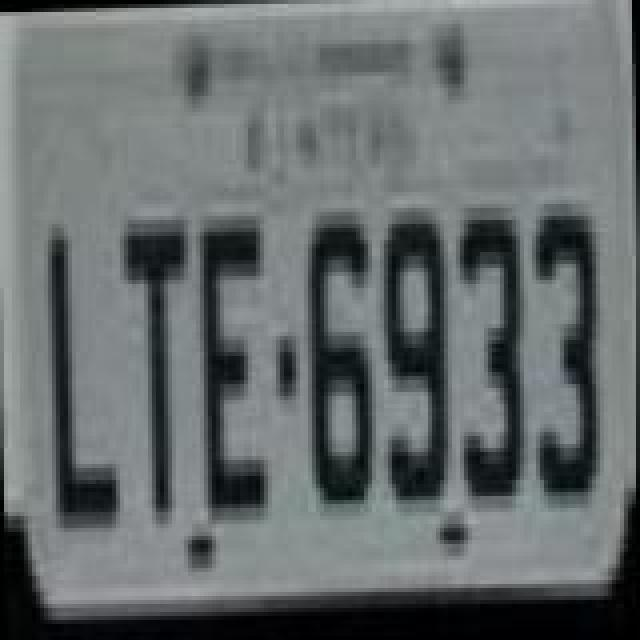3: (528, 202, 608, 510), (454, 206, 530, 514)
6: (300, 204, 380, 512)
9: (376, 208, 456, 516)
E: (196, 206, 276, 530)
L: (44, 222, 124, 530)
T: (122, 212, 198, 536)
